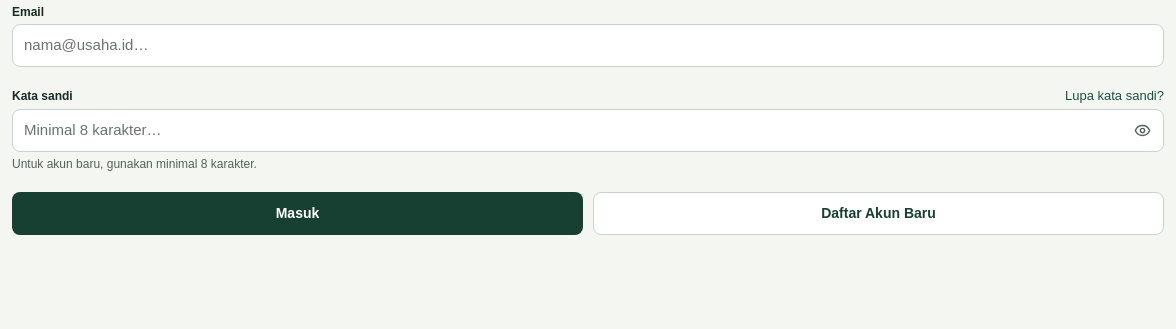
Test case: LoginForm (password only; link only for forgot password) › validates the email and password before calling Supabase
This screenshot has width=1176, height=329.
Click the button "Masuk": coordinates (298, 213) left=12, top=192, right=583, bottom=234
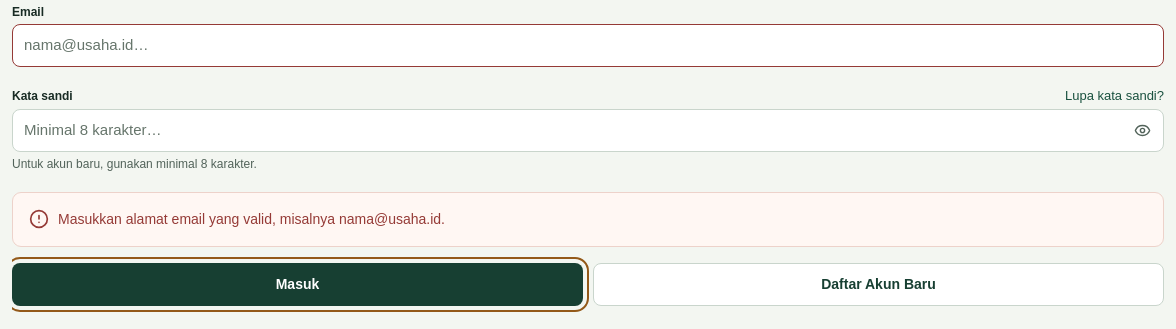
Now the message shows "email yang valid", box left=58, top=210, right=445, bottom=226
In the field labelled "Email": coordinates (588, 46) left=12, top=24, right=1164, bottom=67, type "pemilik@dapur.id"
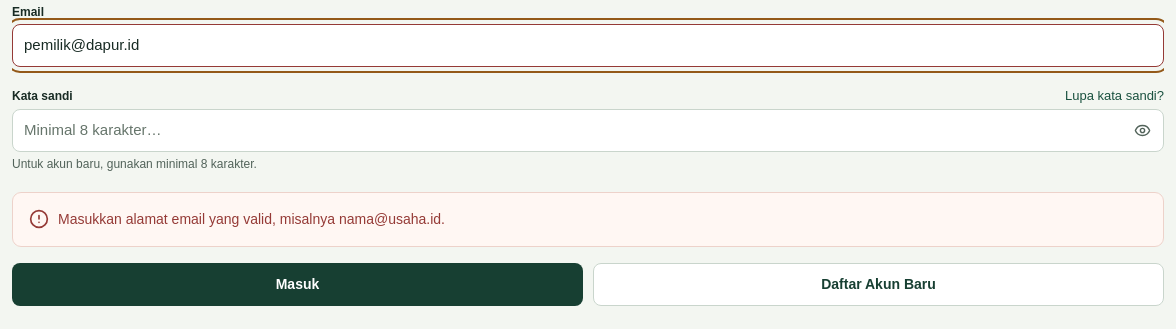
Click the button "Masuk": coordinates (298, 284) left=12, top=262, right=583, bottom=306
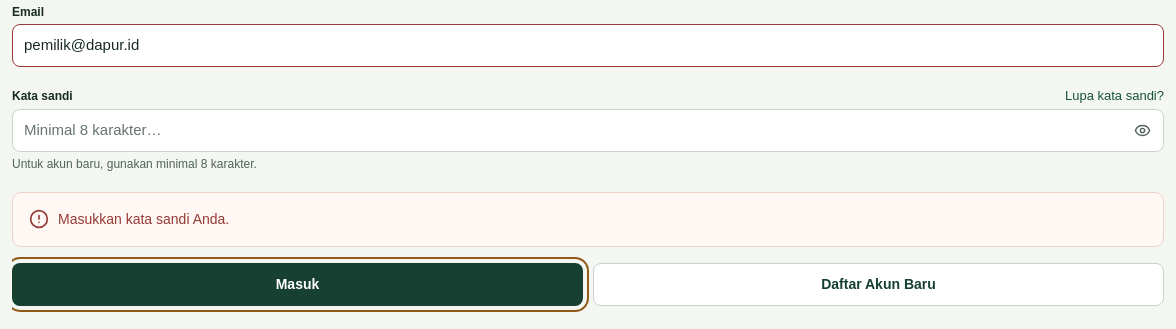
Now the message shows "Masukkan kata sandi", box left=58, top=210, right=229, bottom=226
In the password field labelled "Kata sandi": coordinates (588, 130) left=12, top=108, right=1164, bottom=152, type "pendek"
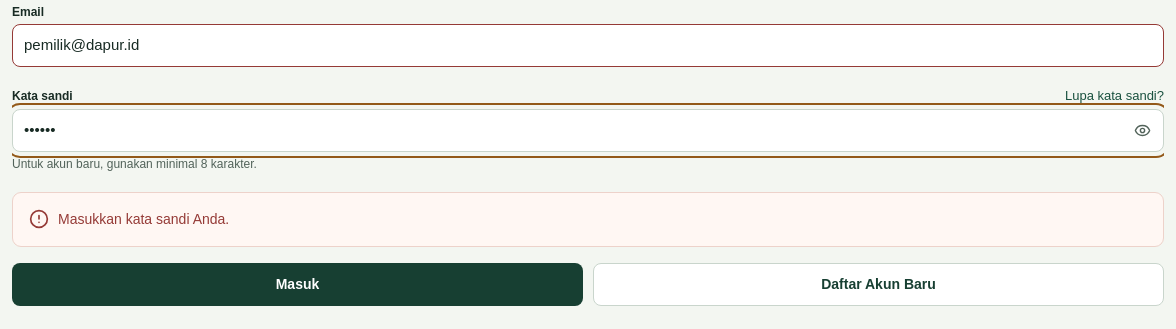
Click the button "Daftar Akun Baru": coordinates (878, 284) left=593, top=262, right=1164, bottom=306
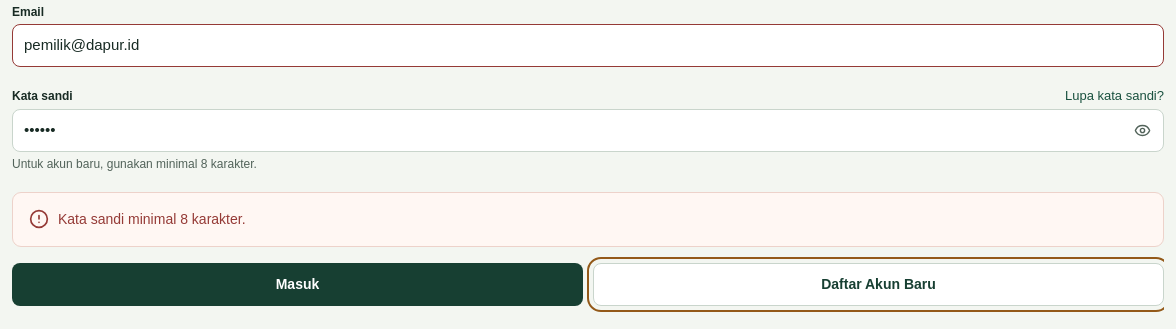
Now the message shows "minimal 8 karakter", box left=58, top=210, right=246, bottom=226
